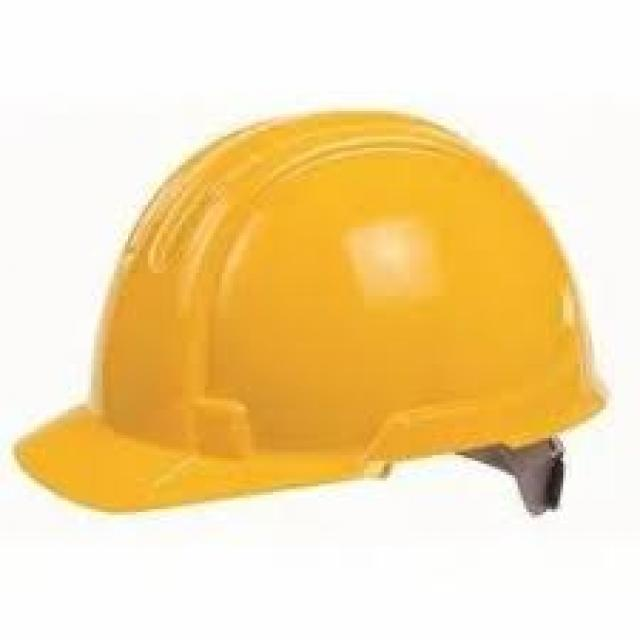Safety-Helmet: (28, 94, 626, 515)
